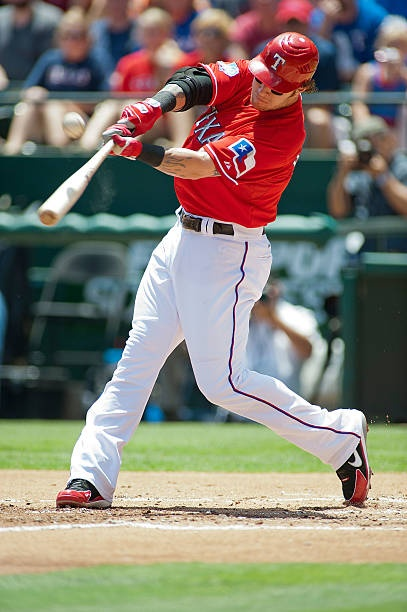bita: (41, 112, 138, 225)
